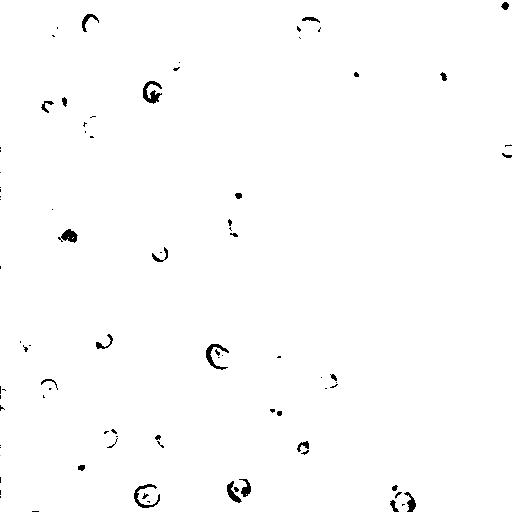micro-algae: (86, 387, 166, 464), (250, 419, 322, 487), (115, 47, 176, 104), (58, 408, 108, 460), (55, 273, 97, 316), (477, 56, 512, 104), (48, 224, 86, 261), (481, 436, 512, 480), (210, 65, 246, 100), (219, 210, 256, 244), (161, 410, 198, 444), (58, 86, 92, 121), (336, 58, 369, 88), (33, 93, 63, 124), (38, 210, 69, 240), (135, 415, 168, 443), (428, 60, 457, 91), (267, 346, 296, 376), (292, 16, 325, 42), (80, 114, 109, 142), (225, 474, 252, 504), (441, 226, 474, 250), (206, 342, 234, 370), (45, 15, 72, 44), (134, 483, 163, 510), (162, 48, 188, 78), (13, 335, 37, 361), (142, 79, 164, 106), (389, 491, 417, 512), (70, 454, 94, 478), (37, 378, 60, 403), (384, 476, 407, 500), (80, 12, 102, 36), (98, 428, 120, 451), (91, 328, 113, 350), (318, 371, 340, 391), (263, 403, 286, 422), (261, 96, 281, 116), (492, 0, 512, 20), (151, 244, 170, 264), (154, 432, 173, 450), (0, 388, 15, 410), (296, 440, 312, 455), (16, 505, 48, 512), (501, 142, 512, 159), (232, 189, 245, 200)
